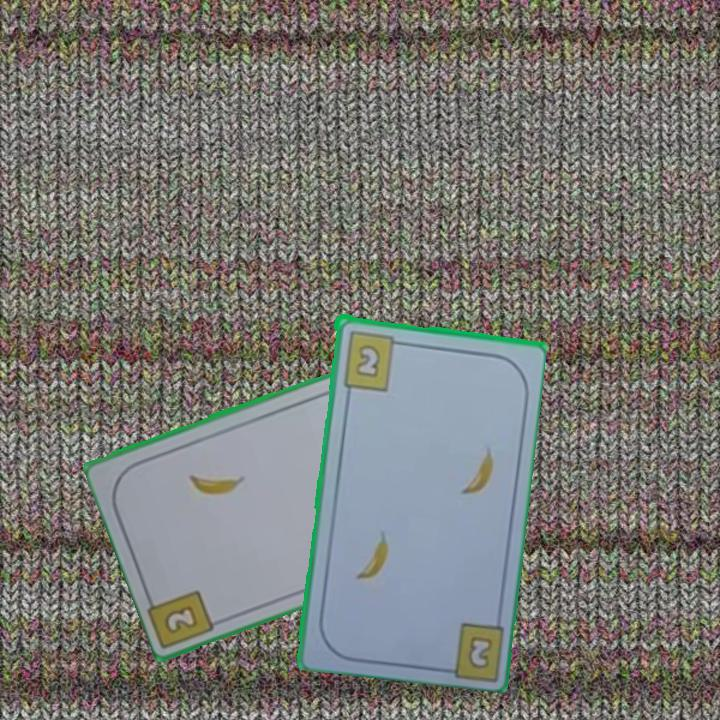2b: (339, 327, 406, 393), (164, 604, 198, 634), (466, 636, 492, 668)
